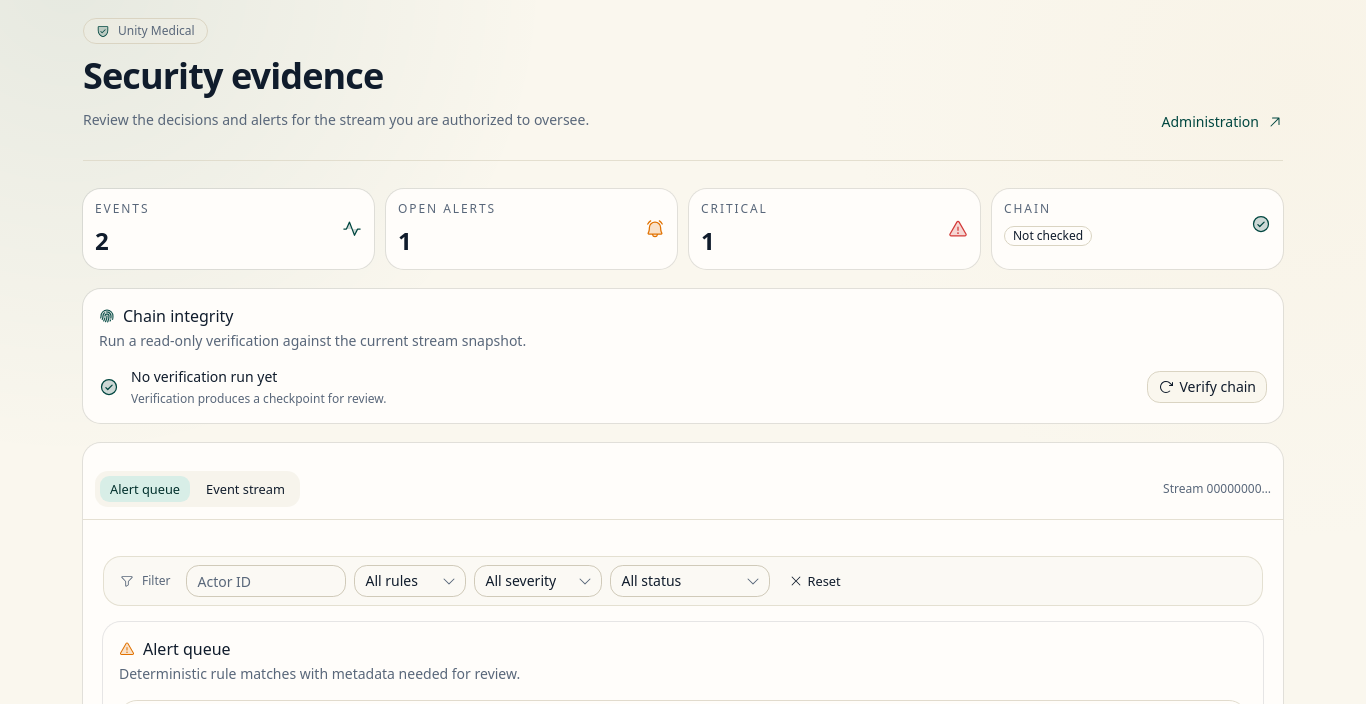
it: renders stream-scoped alerts and verifies the audit chain
Expected: the heading "Security evidence" is shown, x1=83 y1=51 x2=383 y2=100
Click the button "Verify chain" at [1207, 387], box x1=1146 y1=371 x2=1267 y2=403
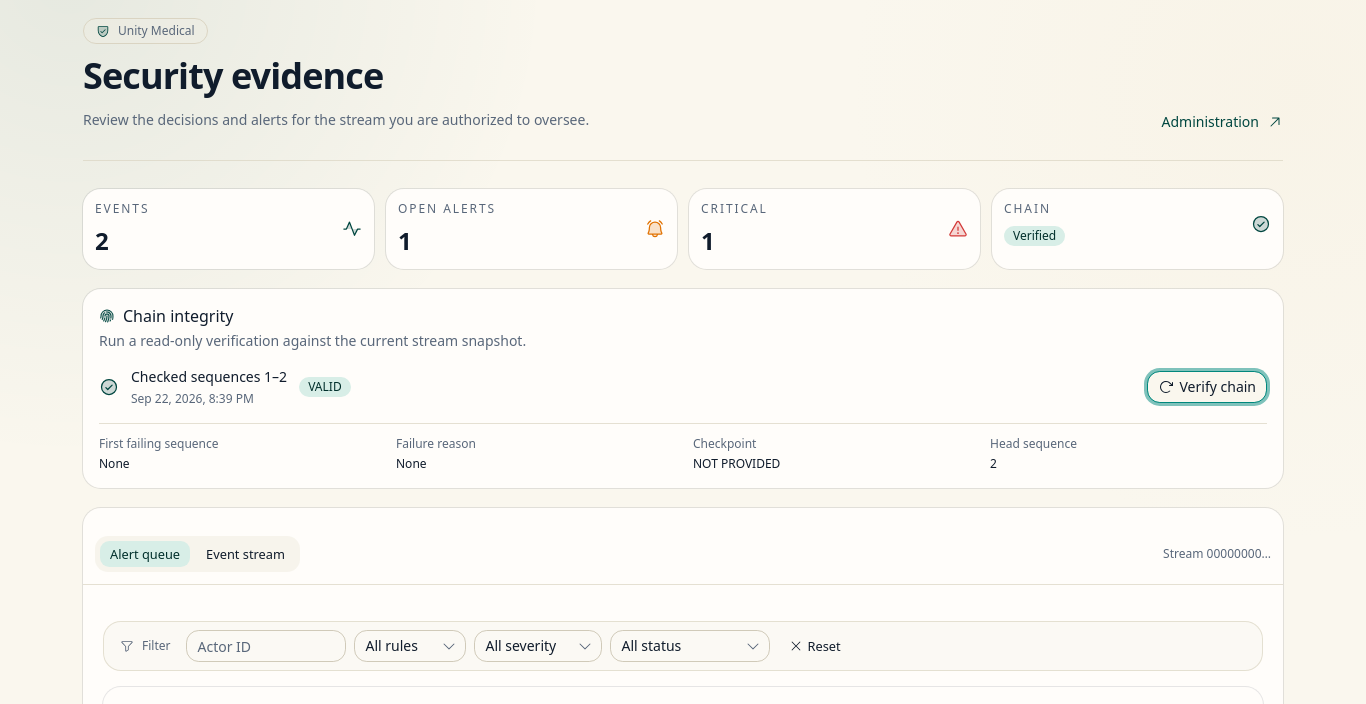
Expected: the icon "VALID" is shown, x1=299 y1=377 x2=351 y2=397
Click the tab "Event stream" at [246, 554], box x1=195 y1=540 x2=296 y2=568
(page scrolled)
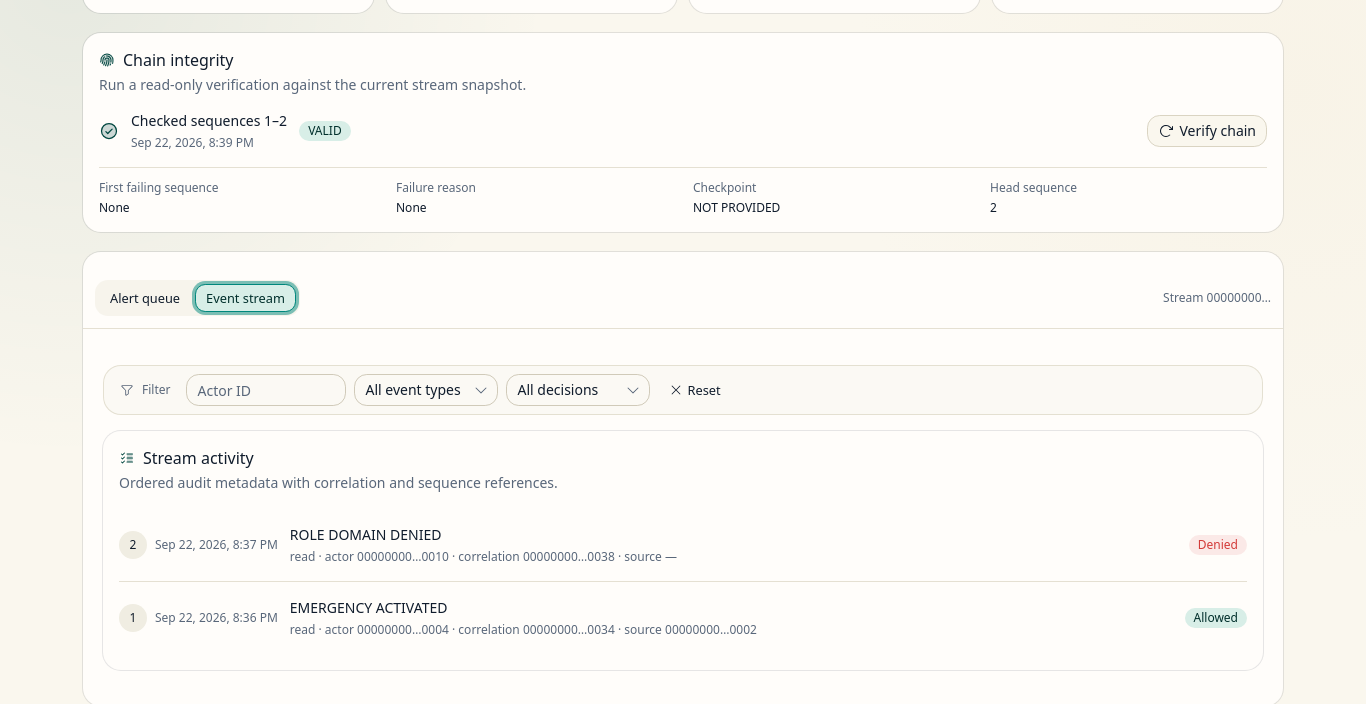
Expected: the text "ROLE DOMAIN DENIED" is shown, x1=290 y1=525 x2=441 y2=544
